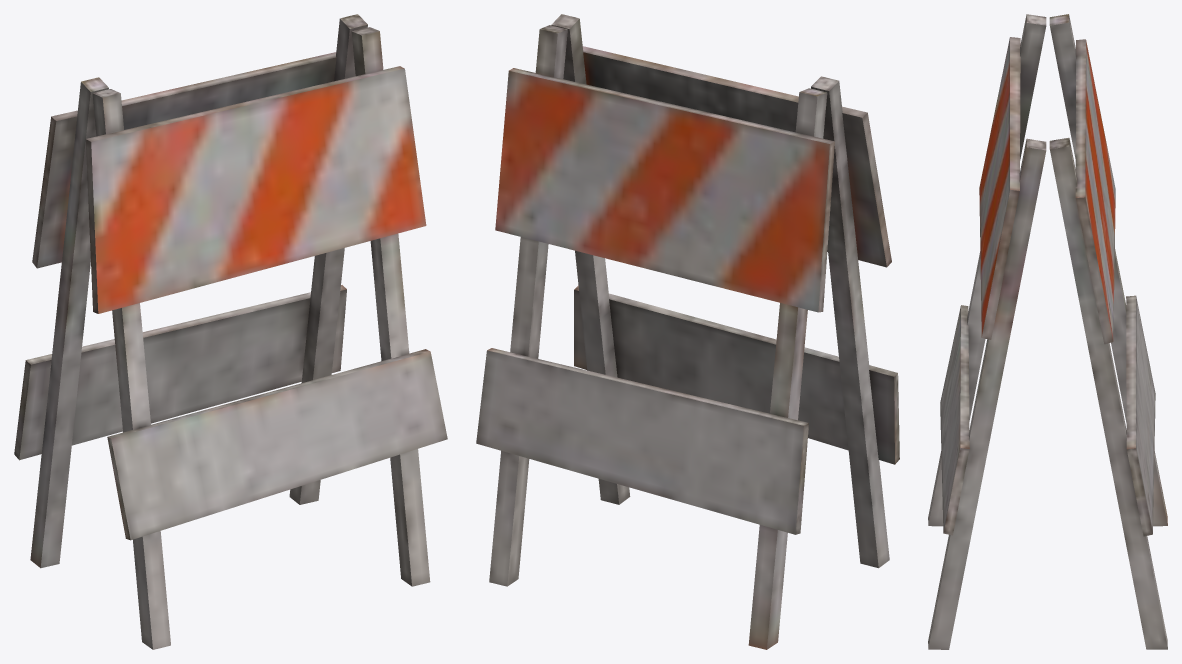
The model's file is wood-barricade.lod1.glb.
3 views of the same model, side by side, from view 1: azimuth 30°, elevation 25°; view 2: azimuth 150°, elevation 25°; view 3: azimuth 270°, elevation 25° (orthographic). The views are drawn at different scales.
Visible parts, largest first — view 1: defaultMaterial; view 2: defaultMaterial; view 3: defaultMaterial.
Boxes of the visible parts, bbox=[...] form: defaultMaterial: bbox=[14, 14, 447, 649]; defaultMaterial: bbox=[476, 14, 899, 649]; defaultMaterial: bbox=[928, 14, 1167, 649].
Bounding box in the file's own units: 0.739 × 1.1 × 0.4744.
Materials: 1 (1 with a texture image).
